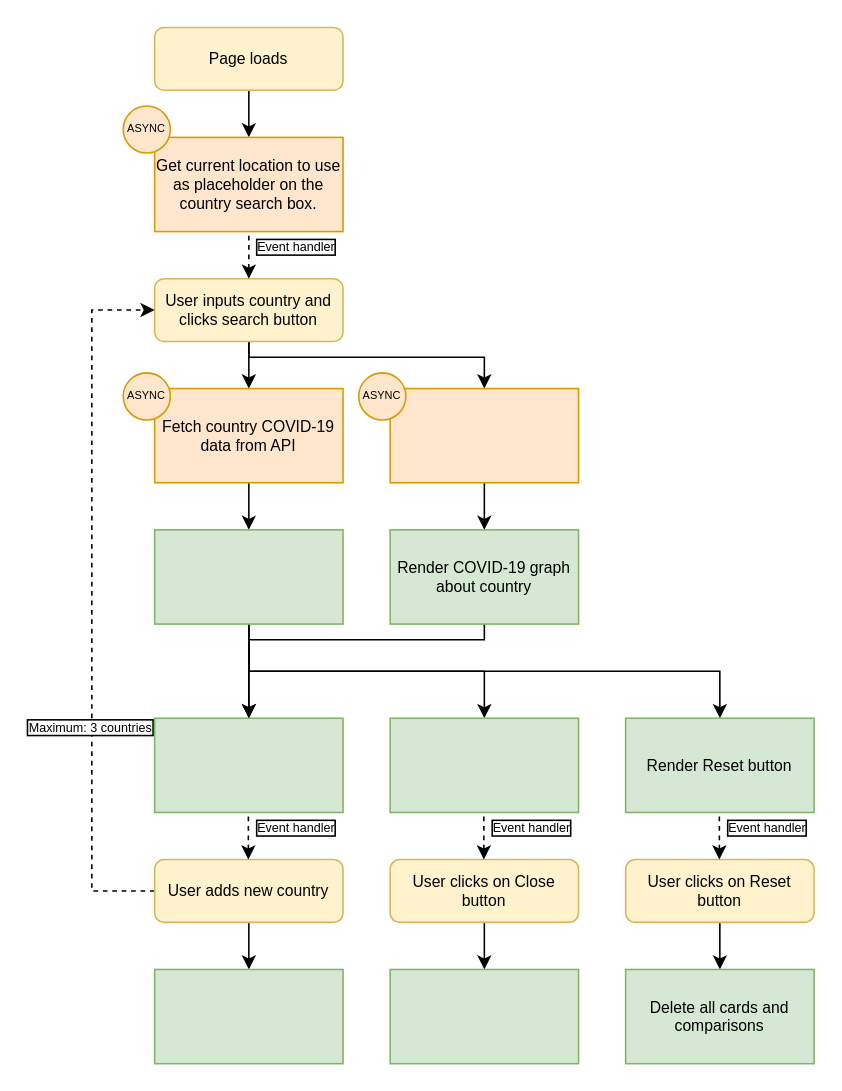
Some shapes in this 842 by 1091 pixel diagram are drawn without their labels. Here are the shapes that lost their labels. From the top down, the centre of each, then its label:
At pixel 484 435: "Fetch country COVID-19 graph from API".
At pixel 248 576: "Render COVID-19 information about country and states".
At pixel 248 764: "Render button to add new country to compare".
At pixel 484 764: "Render Close button on country card".
At pixel 248 1016: "Render comparison information between countries".
At pixel 484 1016: "Delete country card and comparison information".
